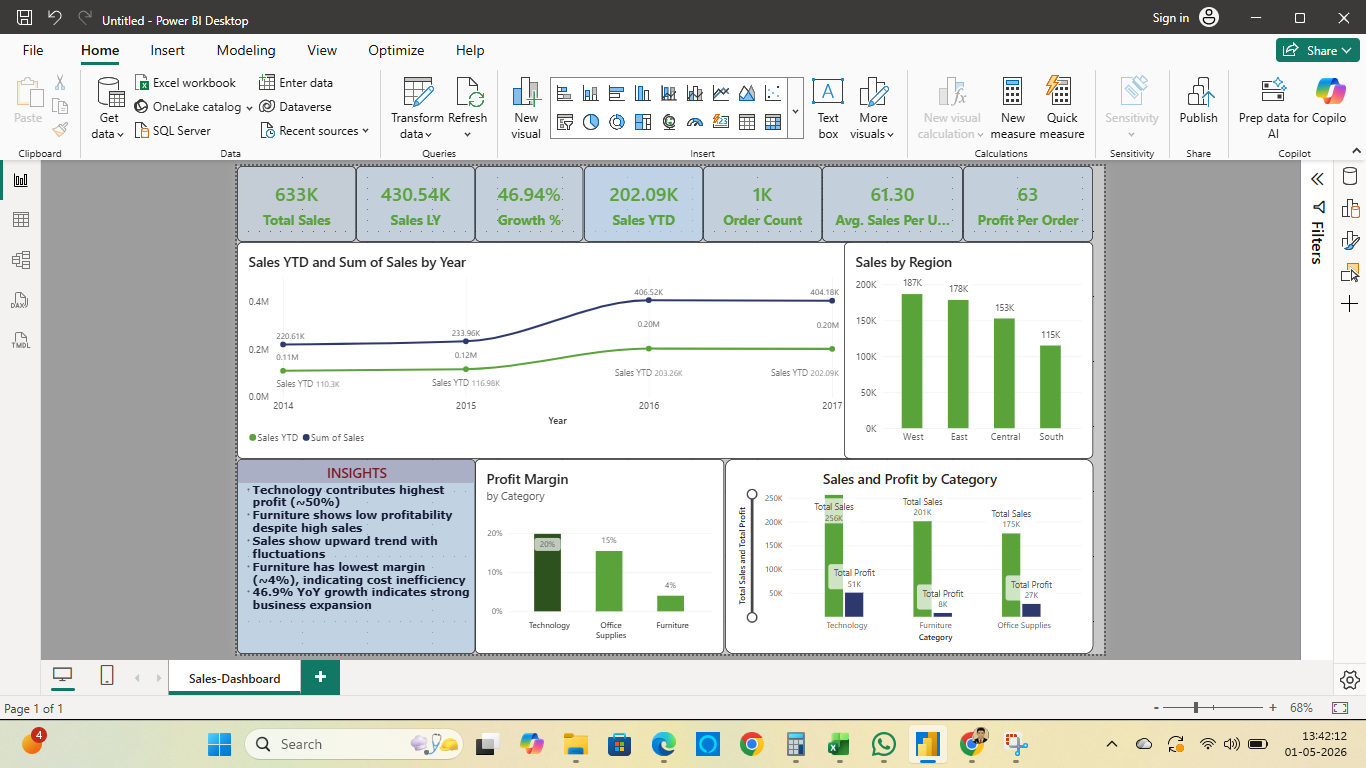

The page's visual inventory and layout, read from the dashboard file:
{"tool":"powerbi","page":{"name":"Page 2","canvas":[1280,720],"ordinal":1},"visuals":[{"type":"card","fields":{"Values":["Power BI Kaggle.Sales YTD"]},"box":[512,0,176,112],"z":0},{"type":"stackedAreaChart","title":"Sales YTD and Sum of Sales by Year","fields":{"Category":["Power BI Kaggle.Order Date.Variation.Date Hierarchy.Year"],"Y":["Power BI Kaggle.Sales YTD","Sum(Power BI Kaggle.Sales)"]},"box":[0,112,912,320],"z":1000},{"type":"card","fields":{"Values":["Power BI Kaggle.Order Count"]},"box":[688,0,176,112],"z":2000},{"type":"card","fields":{"Values":["Power BI Kaggle.Profit Per Order"]},"box":[1072,0,192,112],"z":3000},{"type":"card","fields":{"Values":["Power BI Kaggle.Sales Per Unit"]},"box":[864,0,208,112],"z":4000},{"type":"card","fields":{"Values":["Power BI Kaggle.Sales LY"]},"box":[176,0,176,112],"z":5000},{"type":"card","fields":{"Values":["Power BI Kaggle.Growth %"]},"box":[352,0,160,112],"z":6000},{"type":"card","fields":{"Values":["Power BI Kaggle.Total Sales"]},"box":[0,0,176,112],"z":7000},{"type":"lineClusteredColumnComboChart","title":"Sales and Profit by Category","fields":{"Category":["Power BI Kaggle.Category"],"Y":["Power BI Kaggle.Total Sales","Power BI Kaggle.Total Profit"]},"box":[720,432,544,288],"z":8000},{"type":"lineStackedColumnComboChart","title":"Sales by Region","fields":{"Category":["Power BI Kaggle.Region"],"Y":["Power BI Kaggle.Total Sales"]},"box":[896,112,368,320],"z":9000},{"type":"lineClusteredColumnComboChart","fields":{"Category":["Power BI Kaggle.Category"],"Y":["Power BI Kaggle.Profit Margin"]},"box":[352,432,368,288],"z":10000},{"type":"textbox","title":"INSIGHTS","box":[0,432,352,288],"z":12000}]}

Visuals, with their boxes on the page's 1280x720 design canvas (x1, y1, x2, y2). These are canvas units, not pixel positions in the 1366x768 screenshot, which may show the page scaled, cropped or inside an application window:
card - Power BI Kaggle.Sales YTD: crop(512, 0, 688, 112)
"Sales YTD and Sum of Sales by Year" stackedAreaChart: crop(0, 112, 912, 432)
card - Power BI Kaggle.Order Count: crop(688, 0, 864, 112)
card - Power BI Kaggle.Profit Per Order: crop(1072, 0, 1264, 112)
card - Power BI Kaggle.Sales Per Unit: crop(864, 0, 1072, 112)
card - Power BI Kaggle.Sales LY: crop(176, 0, 352, 112)
card - Power BI Kaggle.Growth %: crop(352, 0, 512, 112)
card - Power BI Kaggle.Total Sales: crop(0, 0, 176, 112)
"Sales and Profit by Category" lineClusteredColumnComboChart: crop(720, 432, 1264, 720)
"Sales by Region" lineStackedColumnComboChart: crop(896, 112, 1264, 432)
lineClusteredColumnComboChart - Power BI Kaggle.Category x Power BI Kaggle.Profit Margin: crop(352, 432, 720, 720)
"INSIGHTS" textbox: crop(0, 432, 352, 720)
